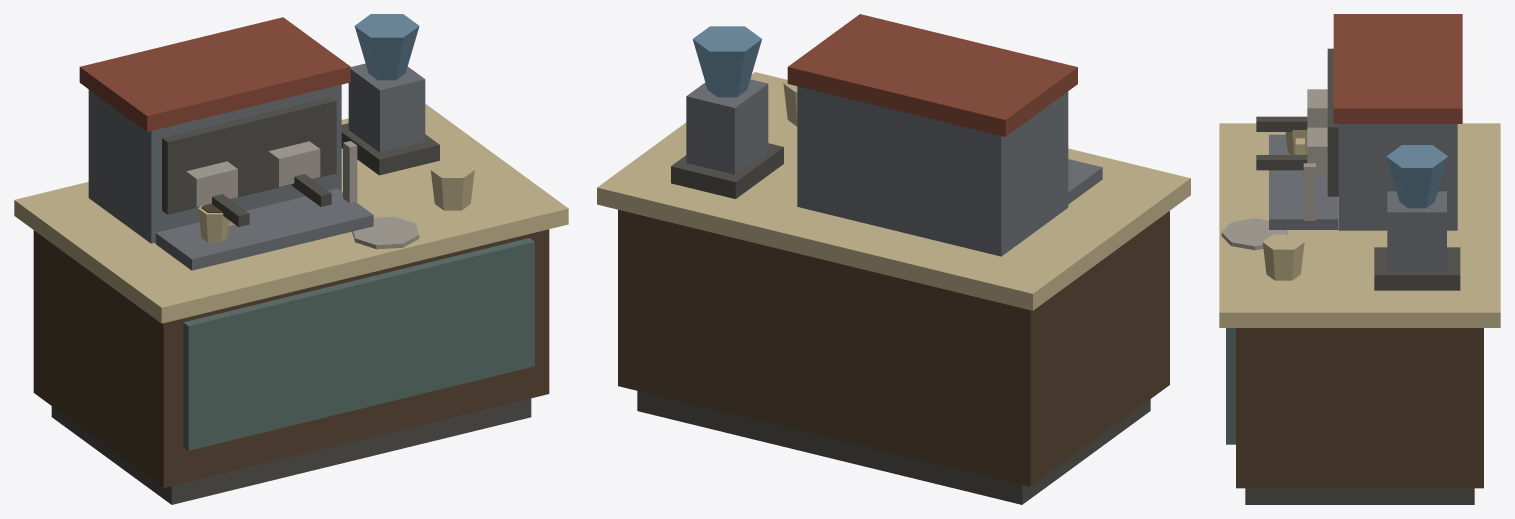
Rendered from prop-coffee-counter.glb.
3 views of the same model, side by side, from view 1: azimuth 30°, elevation 25°; view 2: azimuth 150°, elevation 25°; view 3: azimuth 270°, elevation 25° (orthographic). The views are drawn at different scales.
Parts seen in each view (by area): view 1: coffee_counter; view 2: coffee_counter; view 3: coffee_counter.
Part boxes in pixels (x1=…): coffee_counter: x1=14, y1=14, x2=568, y2=504; coffee_counter: x1=597, y1=14, x2=1190, y2=504; coffee_counter: x1=1219, y1=14, x2=1500, y2=504.
Size of the model in its own units: 0.94 by 0.7715 by 0.59.
